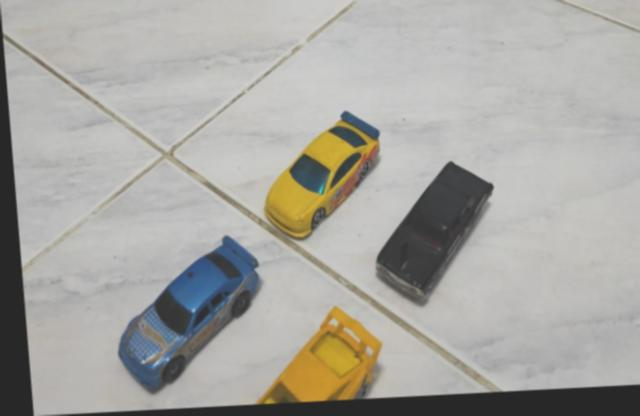01_FORD: (370, 165, 491, 308)
02_OZSOME: (258, 112, 379, 244)
04_MERZEDES: (112, 239, 258, 398)
07_RHLTURBO: (248, 310, 376, 407)
